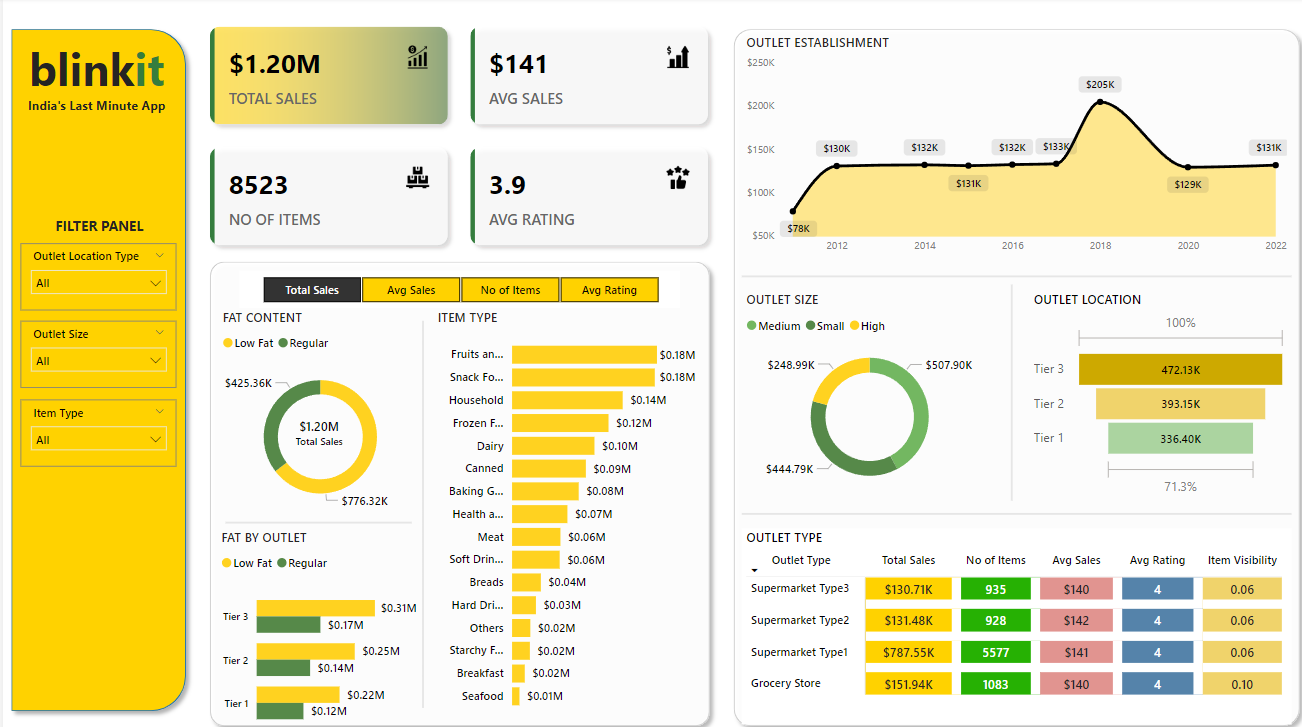

This screenshot's page, from the dashboard's own definition file:
{"tool":"powerbi","page":{"name":"Page 1","canvas":[1400,800],"ordinal":0},"visuals":[{"type":"shape","box":[0,25.5,205.1,749.3],"z":0},{"type":"textbox","box":[10.7,38.9,179.6,79.1],"z":1000},{"type":"textbox","box":[14.7,101.9,171.6,32.2],"z":2000},{"type":"cardVisual","fields":{"Data":["BlinkIT Grocery Data.Total Sales","BlinkIT Grocery Data.Avg Sales","BlinkIT Grocery Data.No of Items","BlinkIT Grocery Data.Avg Rating"]},"box":[205.1,14.7,569.7,269.4],"z":3000},{"type":"shape","box":[213.1,274.8,553.6,516.1],"z":4000},{"type":"donutChart","title":"FAT CONTENT","fields":{"Y":["BlinkIT Grocery Data.Total Sales"],"Category":["BlinkIT Grocery Data.Item Fat Content"]},"box":[230.6,333.8,219.8,230.6],"z":5000},{"type":"slicer","fields":{"Values":["Metrics.Metrics"]},"box":[253.4,293.6,473.2,40.2],"z":6000},{"type":"cardVisual","fields":{"Data":["BlinkIT Grocery Data.Total Sales"]},"box":[272.1,434.3,134,65.7],"z":7000},{"type":"clusteredBarChart","title":"FAT BY OUTLET","fields":{"Y":["BlinkIT Grocery Data.Total Sales"],"Category":["BlinkIT Grocery Data.Outlet Location Type"],"Series":["BlinkIT Grocery Data.Item Fat Content"]},"box":[229.2,569.7,219.8,230.6],"z":8000},{"type":"shape","box":[238.6,548.3,199.7,30.8],"z":9000},{"type":"shape","box":[439.7,347.2,21.4,415.6],"z":10000},{"type":"barChart","title":"ITEM TYPE","fields":{"Y":["BlinkIT Grocery Data.Total Sales"],"Category":["BlinkIT Grocery Data.Item Type"]},"box":[461.1,333.8,286.9,441],"z":11000},{"type":"shape","box":[774.8,25.5,624.7,765.4],"z":12000},{"type":"lineChart","title":"OUTLET ESTABLISHMENT","fields":{"Category":["BlinkIT Grocery Data.Outlet Establishment Year"],"Y":["BlinkIT Grocery Data.Total Sales"]},"box":[792.2,38.9,589.8,245.3],"z":13000},{"type":"shape","box":[792.2,284.2,589.8,30.8],"z":14000},{"type":"donutChart","title":"OUTLET SIZE","fields":{"Y":["BlinkIT Grocery Data.Total Sales"],"Category":["BlinkIT Grocery Data.Outlet Size"]},"box":[792.2,314.5,274.8,225.2],"z":15000},{"type":"shape","box":[1076.4,308.3,10.7,231.9],"z":16000},{"type":"funnel","title":"OUTLET LOCATION","fields":{"Category":["BlinkIT Grocery Data.Outlet Location Type"],"Y":["Sum(BlinkIT Grocery Data.Sales)"]},"box":[1100.5,314.5,281.5,225.2],"z":17000},{"type":"shape","box":[792.2,538.9,589.8,30.8],"z":18000},{"type":"pivotTable","title":"OUTLET TYPE","fields":{"Rows":["BlinkIT Grocery Data.Outlet Type"],"Values":["BlinkIT Grocery Data.Total Sales","BlinkIT Grocery Data.No of Items","BlinkIT Grocery Data.Avg Sales","BlinkIT Grocery Data.Avg Rating","Avg(BlinkIT Grocery Data.Item Visibility)"]},"box":[792.2,569.7,589.8,210.5],"z":19000},{"type":"slicer","fields":{"Values":["BlinkIT Grocery Data.Outlet Location Type"]},"box":[18.8,264.1,167.6,72.4],"z":19001},{"type":"slicer","fields":{"Values":["BlinkIT Grocery Data.Outlet Size"]},"box":[18.8,347.2,167.6,72.4],"z":19002},{"type":"slicer","fields":{"Values":["BlinkIT Grocery Data.Item Type"]},"box":[18.8,431.6,167.6,72.4],"z":19003},{"type":"textbox","box":[40.2,230.6,126,33.5],"z":19004}]}

Visuals, with their boxes in screenshot pixels (x1, y1, x2, y2), scaled from the page's 1400x800 canvas onto the 1302x727 screenshot:
shape: locate(0, 23, 191, 704)
textbox: locate(10, 35, 177, 107)
textbox: locate(14, 93, 173, 122)
cardVisual - BlinkIT Grocery Data.Total Sales x BlinkIT Grocery Data.Avg Sales: locate(191, 13, 721, 258)
shape: locate(198, 250, 713, 719)
"FAT CONTENT" donutChart: locate(214, 303, 419, 513)
slicer - Metrics.Metrics: locate(236, 267, 676, 303)
cardVisual - BlinkIT Grocery Data.Total Sales: locate(253, 395, 378, 454)
"FAT BY OUTLET" clusteredBarChart: locate(213, 518, 418, 726)
shape: locate(222, 498, 408, 526)
shape: locate(409, 316, 429, 693)
"ITEM TYPE" barChart: locate(429, 303, 696, 704)
shape: locate(721, 23, 1301, 719)
"OUTLET ESTABLISHMENT" lineChart: locate(737, 35, 1285, 258)
shape: locate(737, 258, 1285, 286)
"OUTLET SIZE" donutChart: locate(737, 286, 992, 490)
shape: locate(1001, 280, 1011, 491)
"OUTLET LOCATION" funnel: locate(1023, 286, 1285, 490)
shape: locate(737, 490, 1285, 518)
"OUTLET TYPE" pivotTable: locate(737, 518, 1285, 709)
slicer - BlinkIT Grocery Data.Outlet Location Type: locate(17, 240, 173, 306)
slicer - BlinkIT Grocery Data.Outlet Size: locate(17, 316, 173, 381)
slicer - BlinkIT Grocery Data.Item Type: locate(17, 392, 173, 458)
textbox: locate(37, 210, 155, 240)
